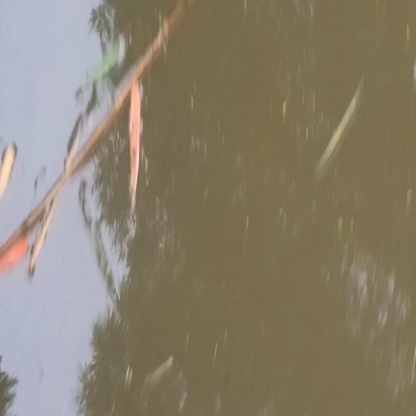branch: (12, 5, 190, 263)
